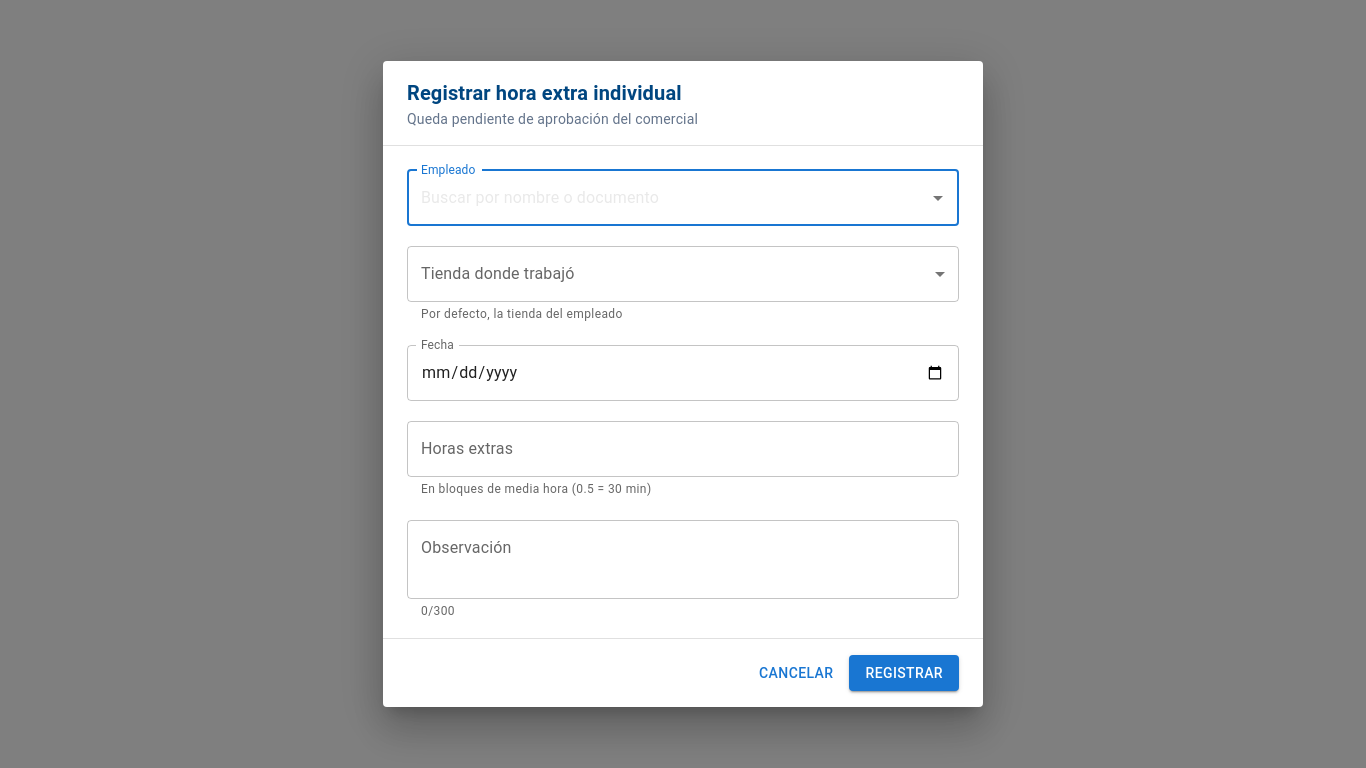
Test: RegistrarHoraExtraModal (individual) › exige elegir un empleado
The width and height of the screenshot is (1366, 768).
Click the button "Registrar" at (904, 673), box 850,655 -> 959,691
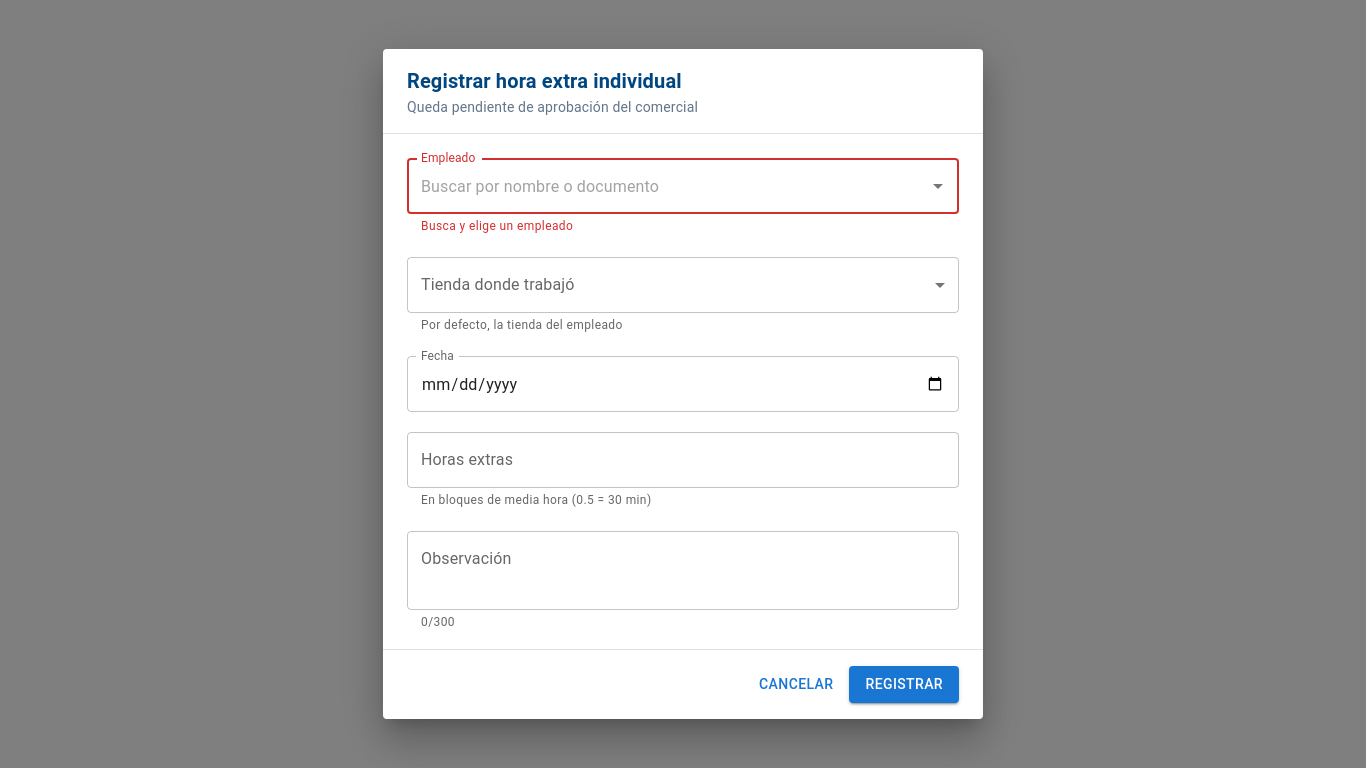
expect the text "Busca y elige un empleado" is shown: met, box 421,219 -> 573,233
